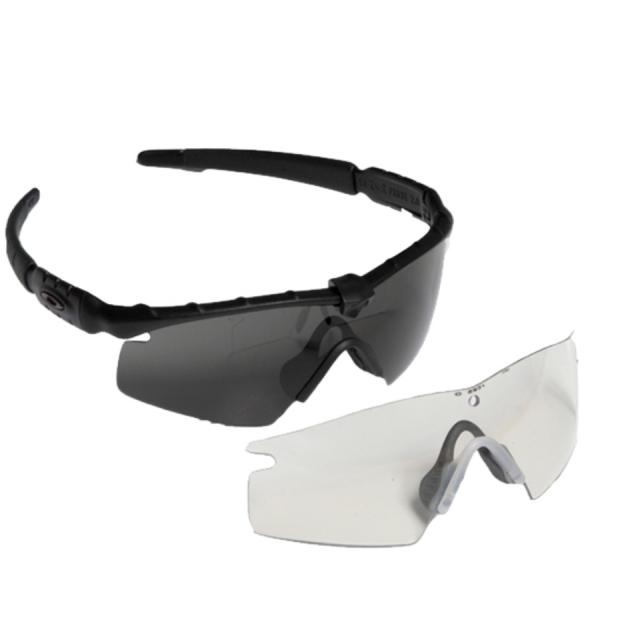Glasses: (0, 139, 451, 437)
